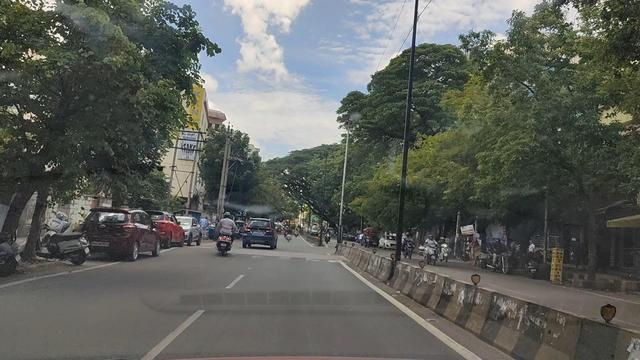LMV: (88, 206, 166, 259), (208, 210, 240, 259), (245, 209, 282, 249)
